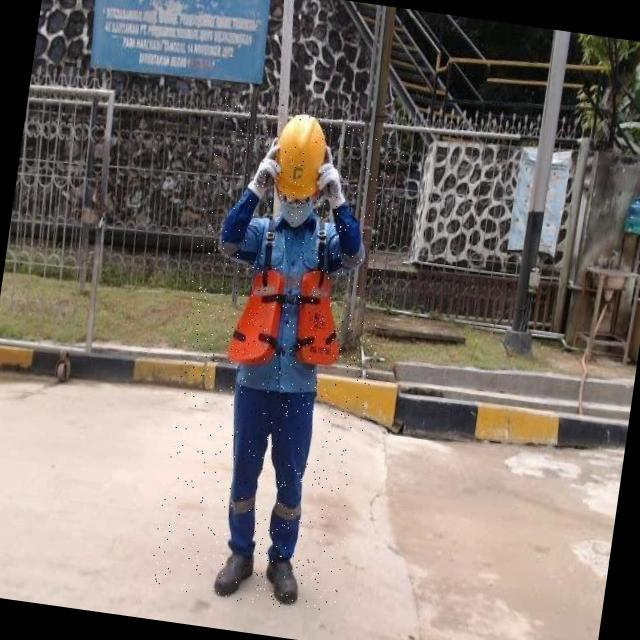hard_hat: (273, 113, 330, 200)
safety_vest: (225, 260, 352, 380)
vehicle: (149, 96, 408, 616)
work_boots: (212, 544, 258, 601), (260, 553, 306, 610)
